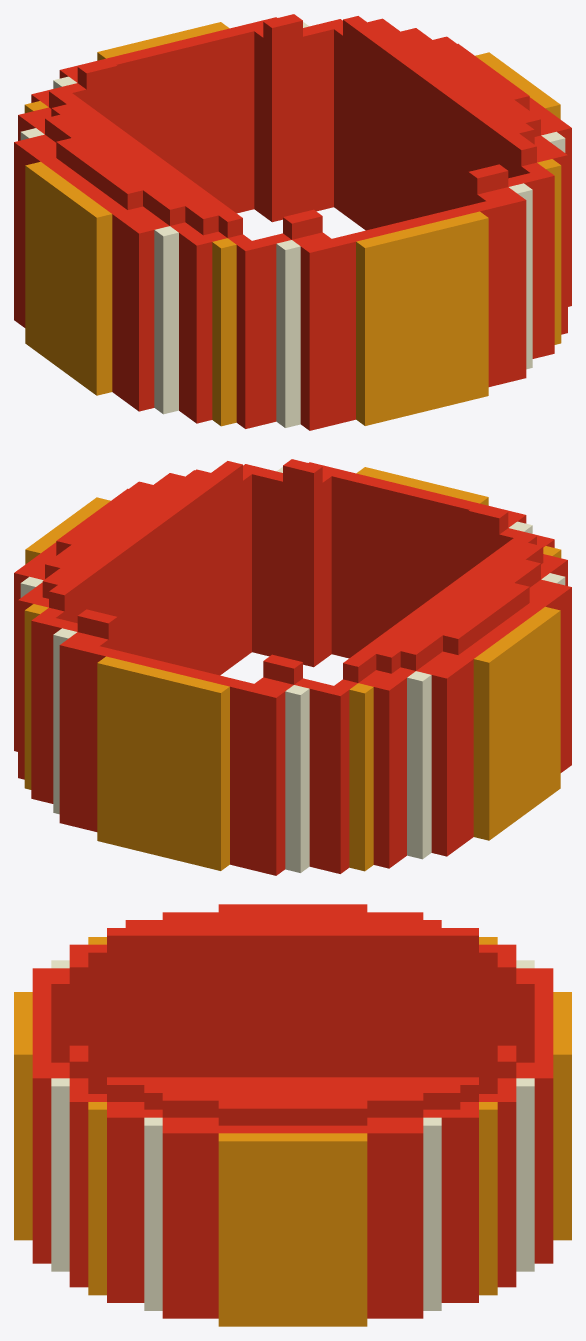
The model's file is tower1_sides.obj.
3 renders of one model, top to bottom at view 1: azimuth 30°, elevation 25°; view 2: azimuth 150°, elevation 25°; view 3: azimuth 270°, elevation 25°, orthographic. The views are drawn at different scales.
Size of the model in its own units: 3 by 1.2 by 3.
1 material, 1 textured.
